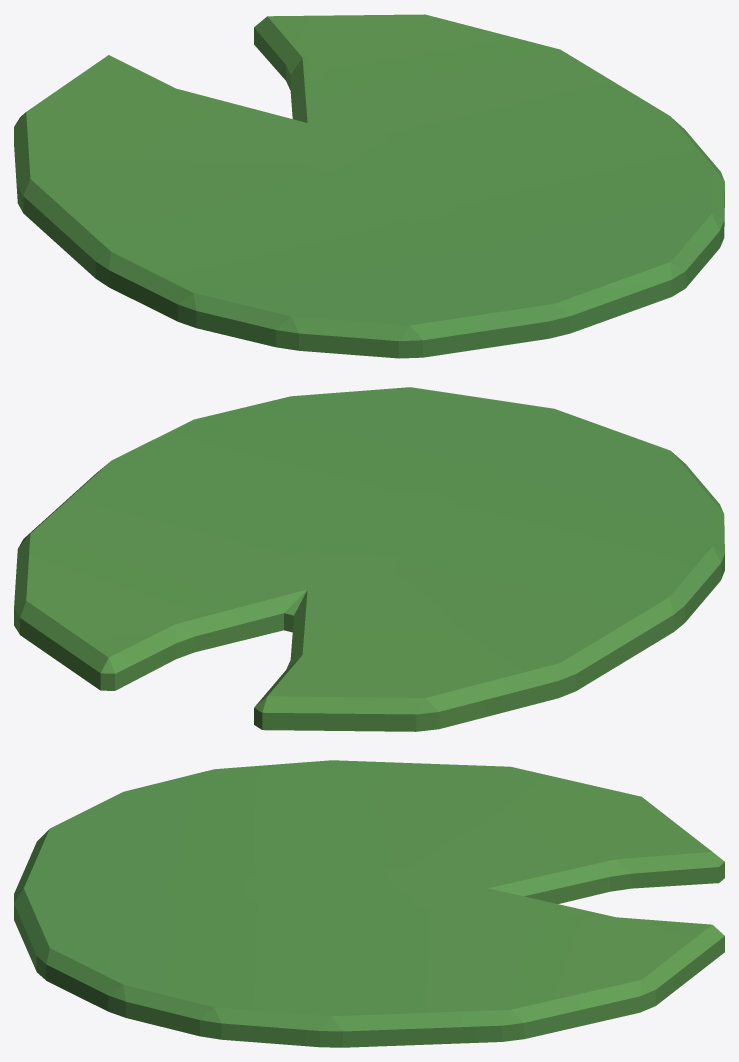
File: flower3.fbx
3 renders of one model, top to bottom at view 1: azimuth 30°, elevation 25°; view 2: azimuth 150°, elevation 25°; view 3: azimuth 270°, elevation 25°, orthographic. The views are drawn at different scales.
Parts seen in each view (by area): view 1: Circle; view 2: Circle; view 3: Circle.
Part boxes in pixels (bbox=[...]): Circle: bbox=[14, 14, 724, 358]; Circle: bbox=[14, 387, 724, 731]; Circle: bbox=[14, 760, 724, 1047].
Size of the model in its own units: 177 by 8.36 by 200.
Materials: 1 (1 with a texture image).
